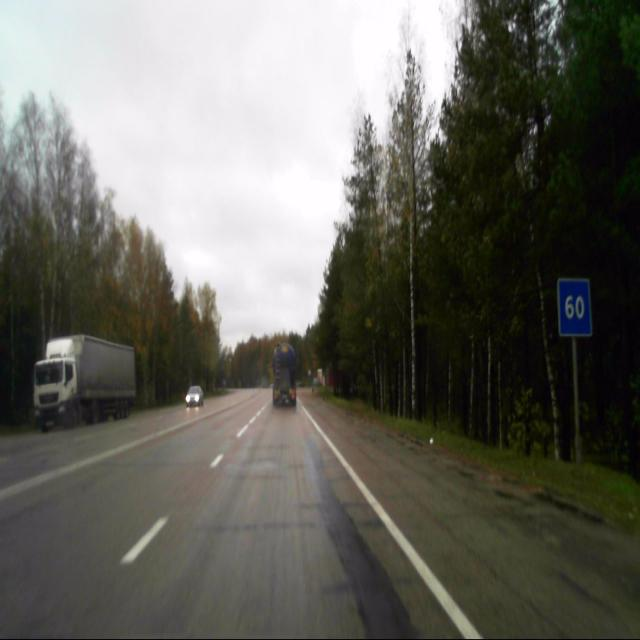road sign: (556, 278, 596, 344)
